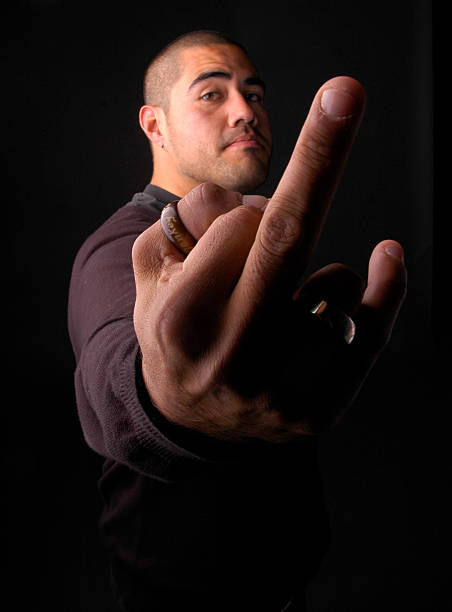insulting_gesture: (131, 71, 410, 448)
